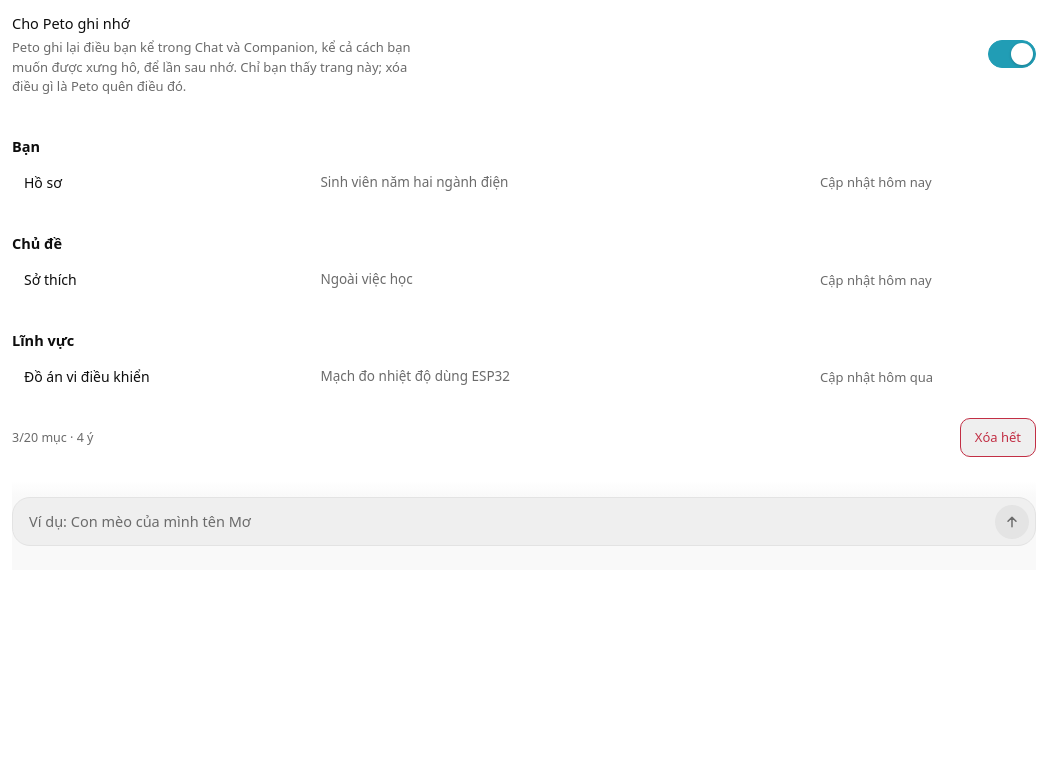
it: tắt công tắc thì lưu lên máy chủ, danh sách mờ đi, ô bảo Peto khóa lại; lỗi thì bật lại
Click the switch labelled "Cho Peto ghi nhớ": (1012, 54) [988, 40, 1036, 68]
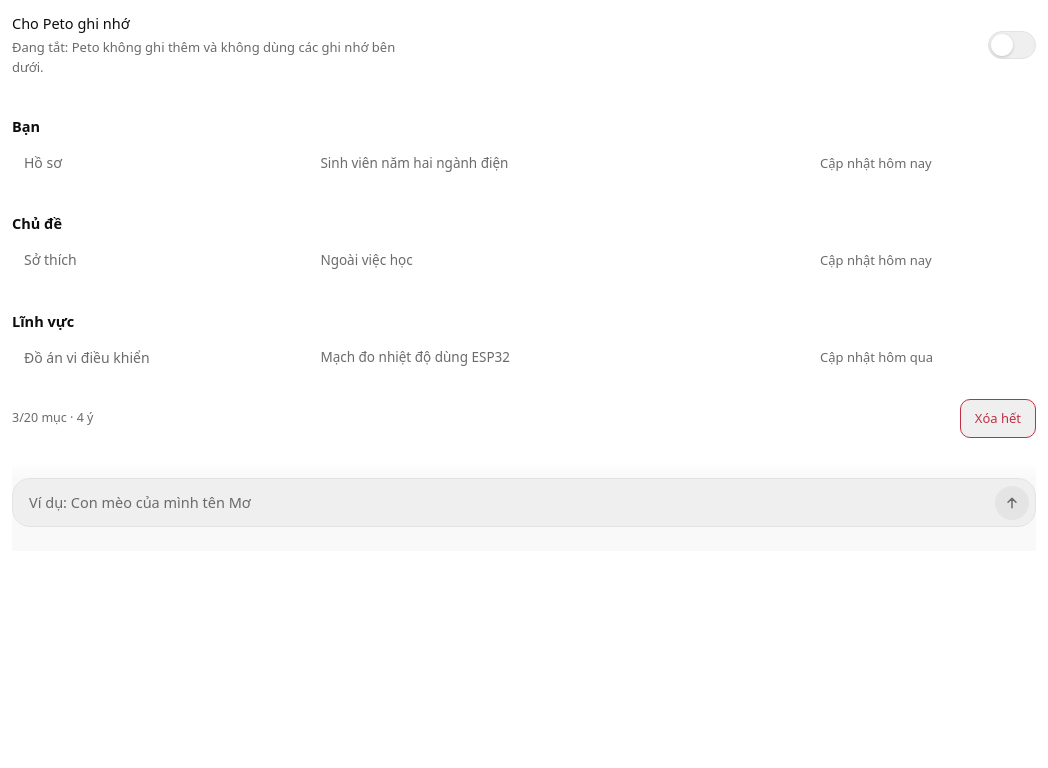
Now the text "Đang tắt: Peto không ghi thêm và không dùng các ghi nhớ bên dưới." is shown, box [12, 38, 428, 77]
Now the text box named "Bảo Peto nhớ điều gì đó" is disabled, box [29, 484, 987, 520]
Click the switch labelled "Cho Peto ghi nhớ": (1012, 45) [988, 31, 1036, 59]
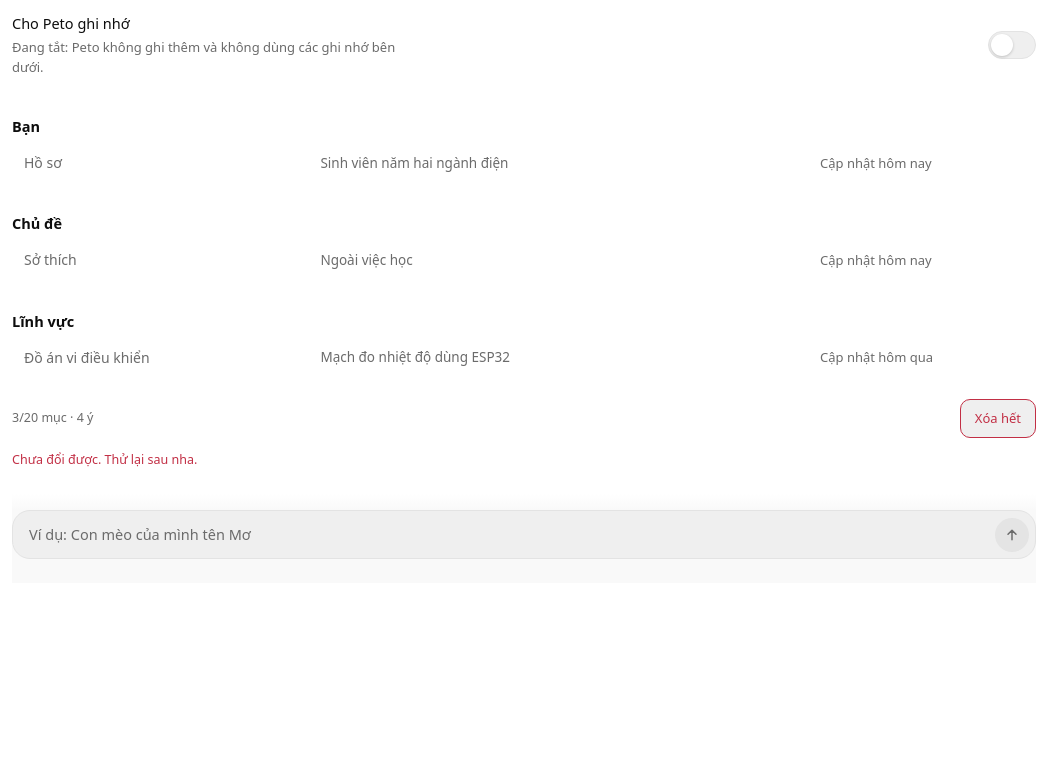
Now the switch labelled "Cho Peto ghi nhớ" is not checked, box [988, 31, 1036, 59]
Now the message reads "Chưa đổi được. Thử lại sau nha.", box [12, 450, 197, 468]
